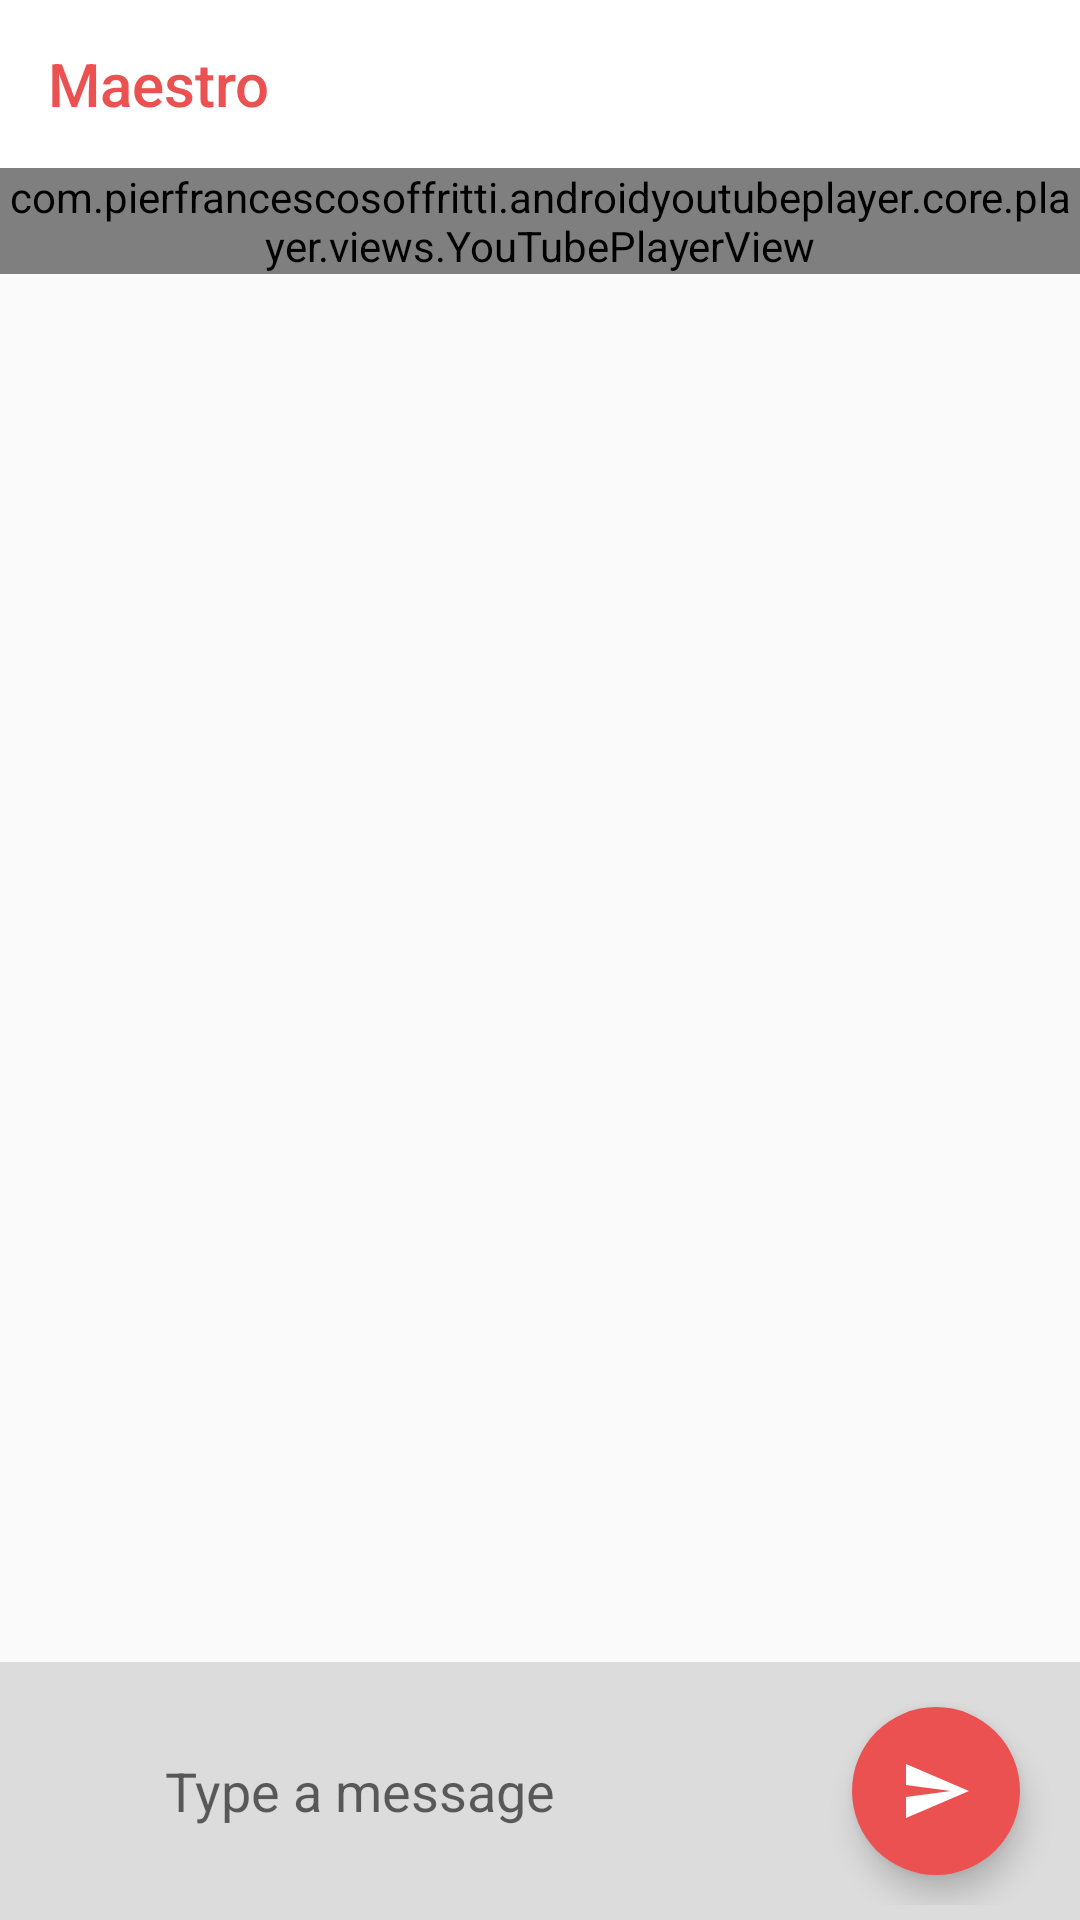

Icon click points for this 1080x1920 phone screenshot, format (x=x, y=y):
send: (x=936, y=1791)
